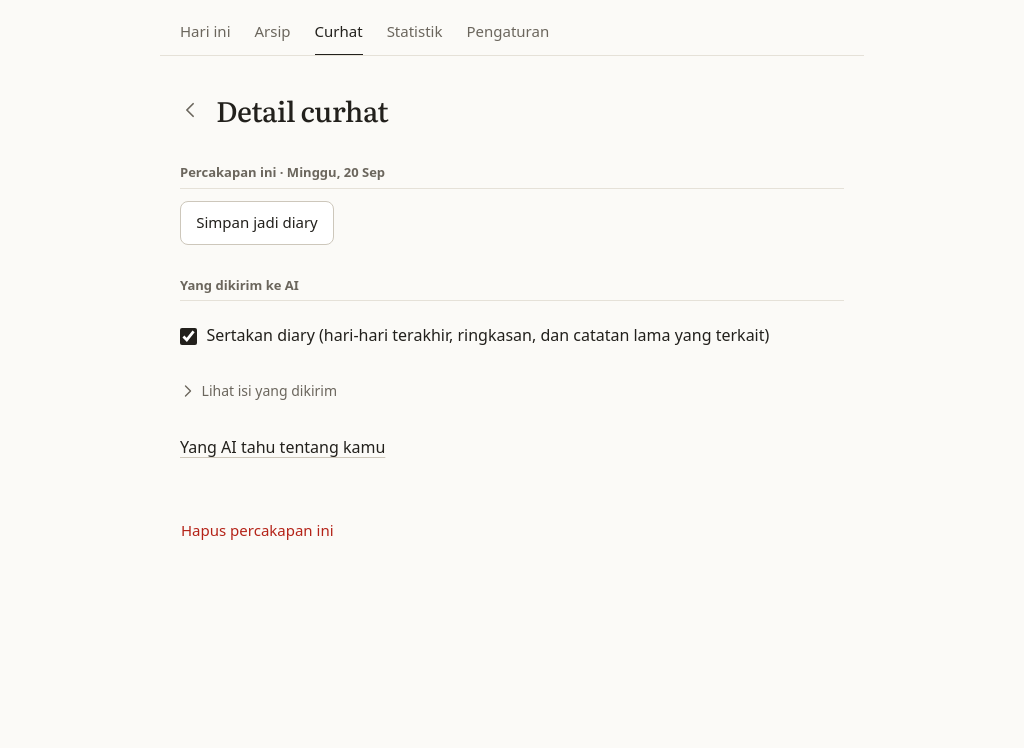
Test: a storage failure shows an alert and keeps the panel with the edited text
Click the button "Simpan jadi diary" at (257, 223), box [180,201,334,245]
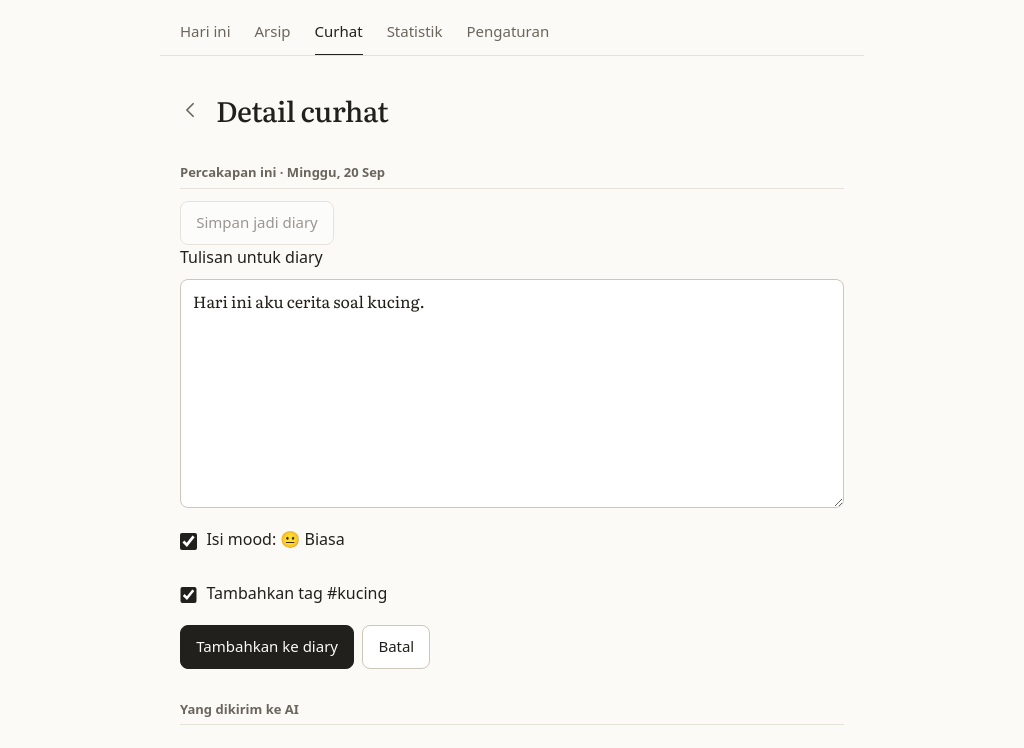
Type " Lagi." into the text box labelled "Tulisan untuk diary" at (512, 394), box [180,279,844,508]
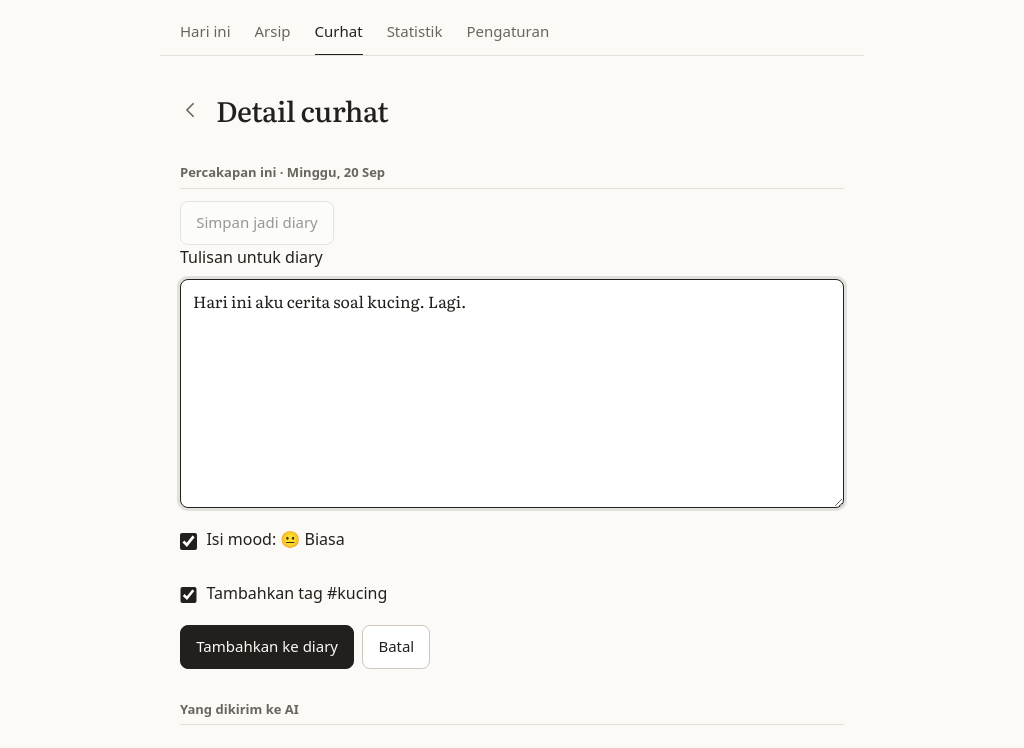
Click the button "Tambahkan ke diary" at (267, 647), box [180,625,354,669]
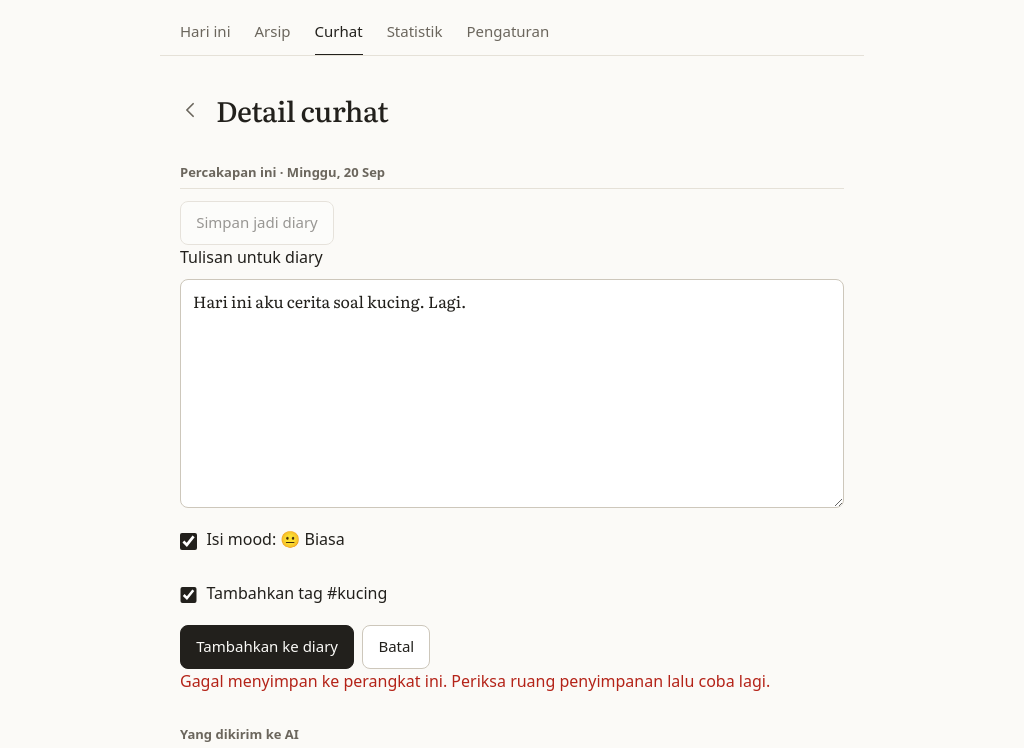
Expected: the text box labelled "Tulisan untuk diary" holds "Hari ini aku cerita soal kucing. Lagi.", [180,279,844,508]
Expected: the message reads "Gagal menyimpan ke perangkat ini. Periksa ruang penyimpanan lalu coba lagi.", [180,670,770,692]
Click the button "Batal" at (396, 647), box [362,625,430,669]
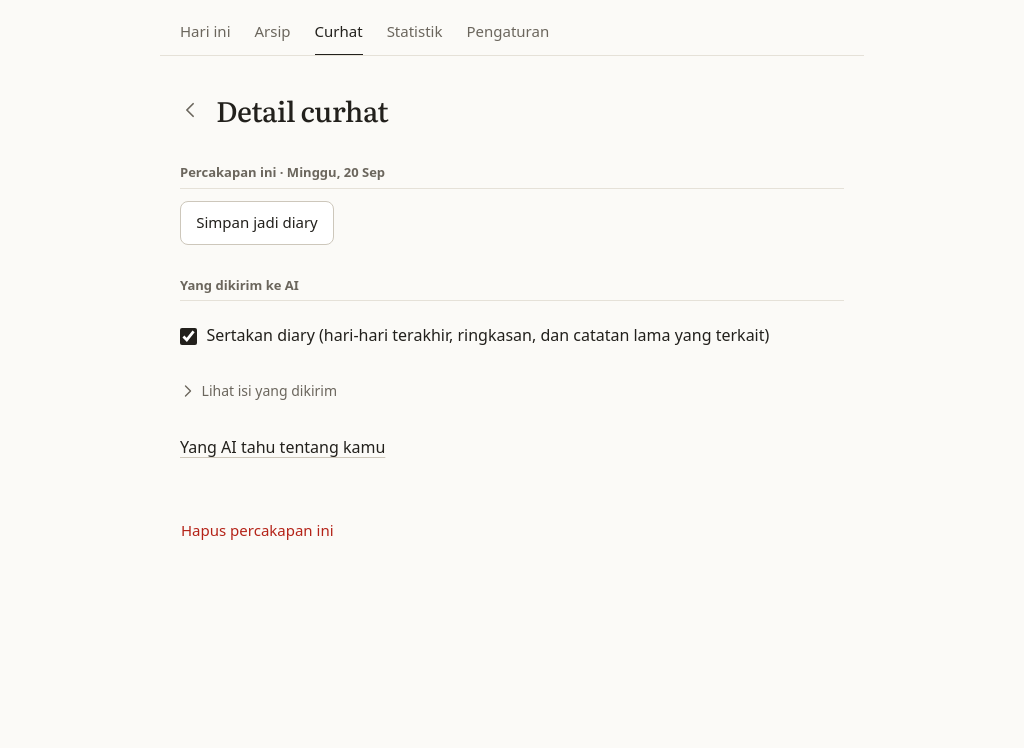
Expected: the message "Gagal menyimpan ke perangkat ini. Periksa ruang penyimpanan lalu coba lagi." is gone
